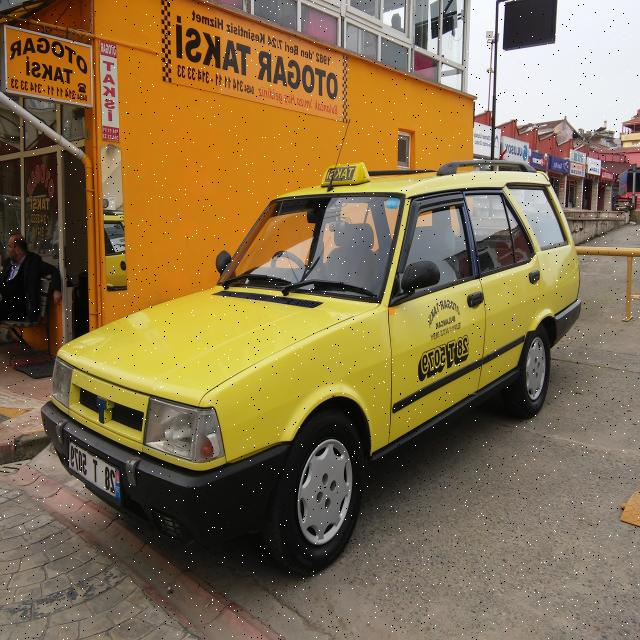car: (41, 162, 579, 573), (103, 211, 125, 290)
